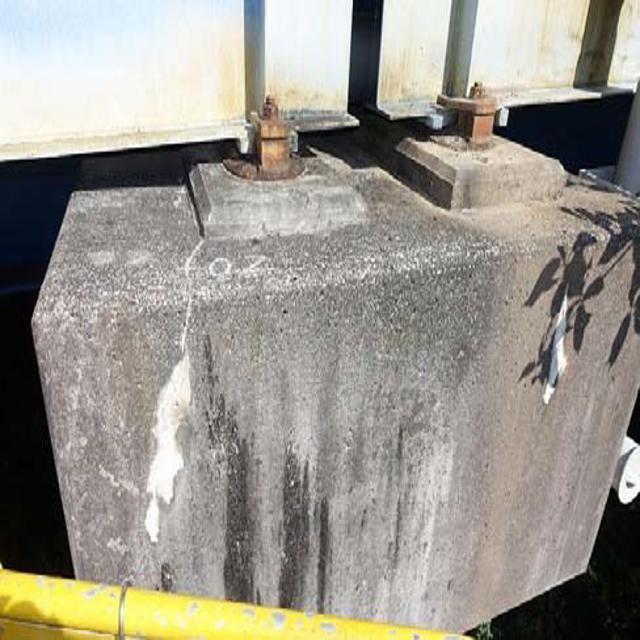corrosion: (207, 97, 323, 196), (430, 66, 530, 173)
freelime: (114, 346, 207, 546)
